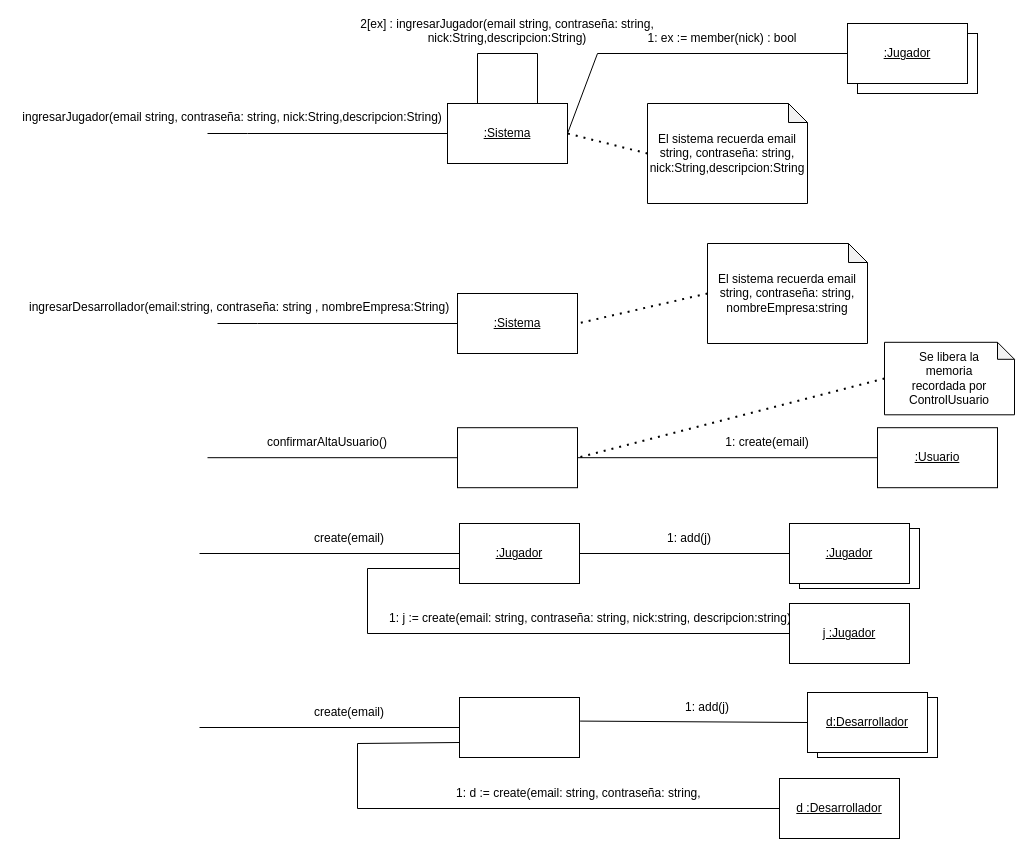
Image size: 1032x856. Some labels were removed from this diagram. Each missing label, with the box of its shape:
: Sistema: (456, 427, 578, 488)
:Desarrollador: (458, 696, 580, 758)
